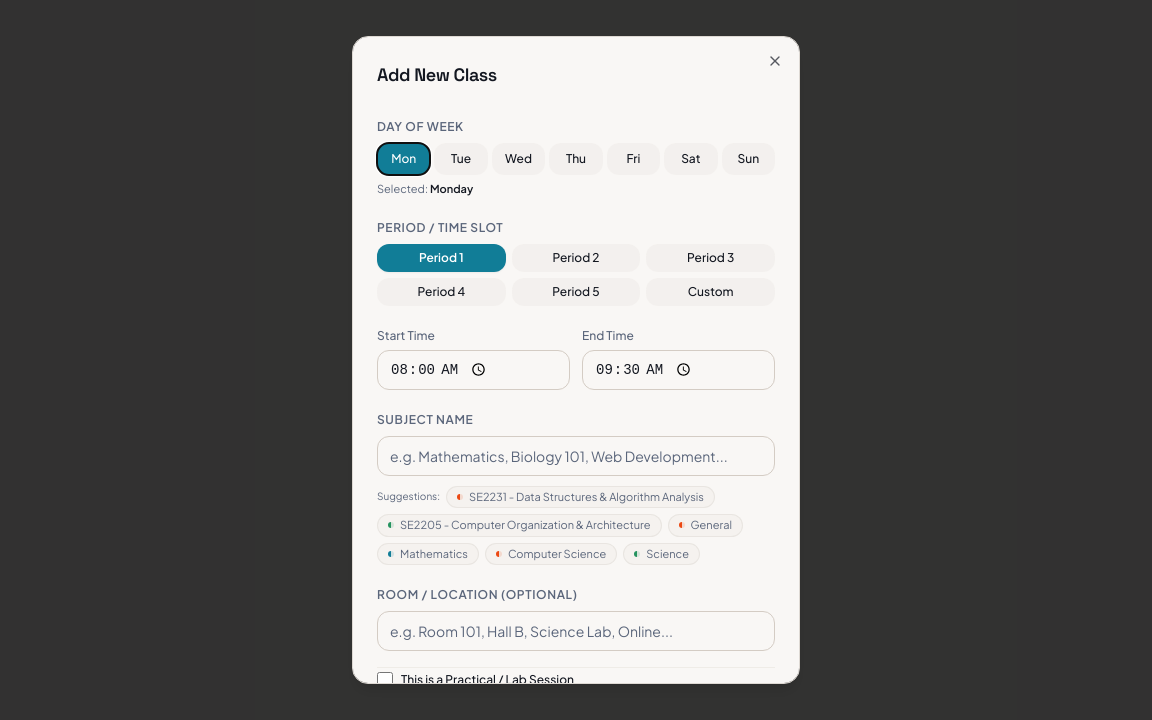
Test: ClassFormModal Subject Autofill › supports selecting autofill suggestions using keyboard navigation
# Type "comp" to search for Computer Organization
In the field labelled "Subject Name": x=576, y=456 [377,436,775,476], type "comp"
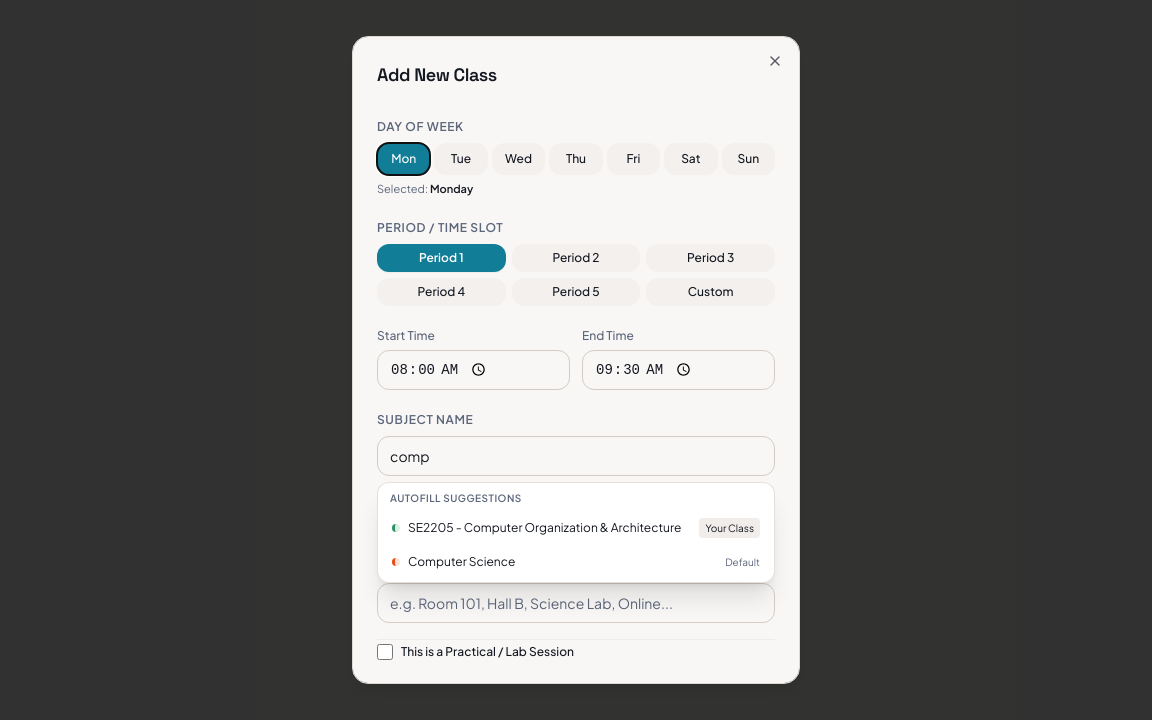
# Arrow down to highlight first suggestion, then press Enter
Press ArrowDown in the field labelled "Subject Name", box [377,436,775,476]
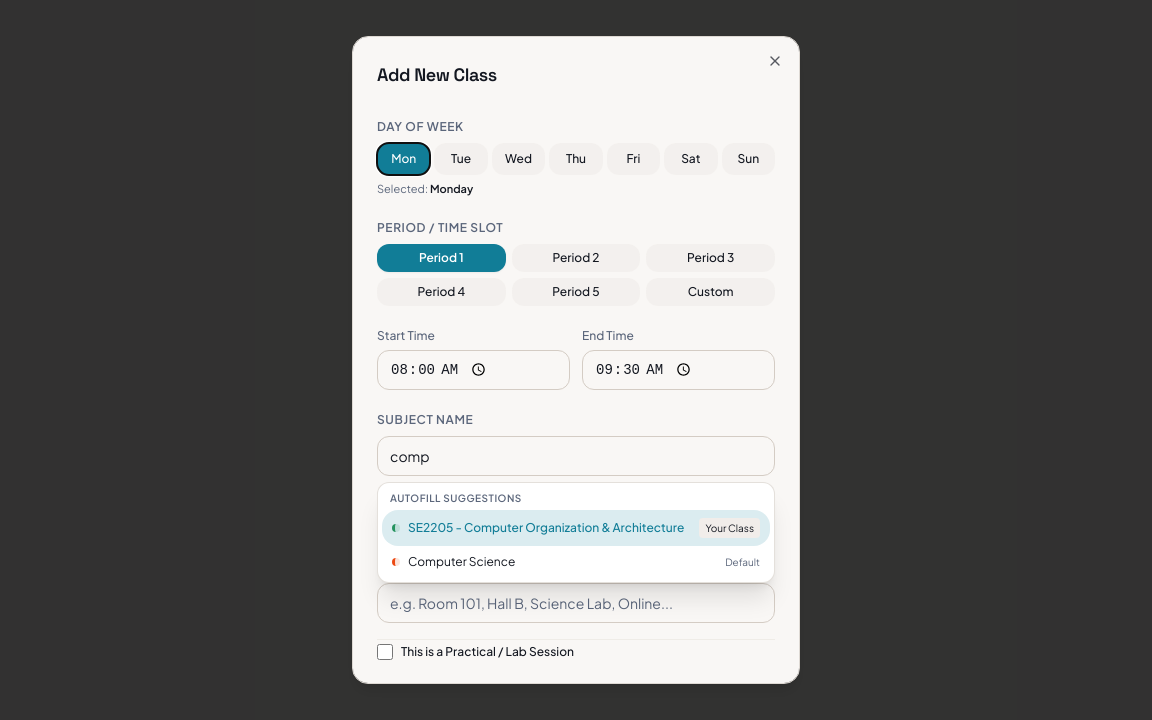
Press Enter in the field labelled "Subject Name", box [377,436,775,476]
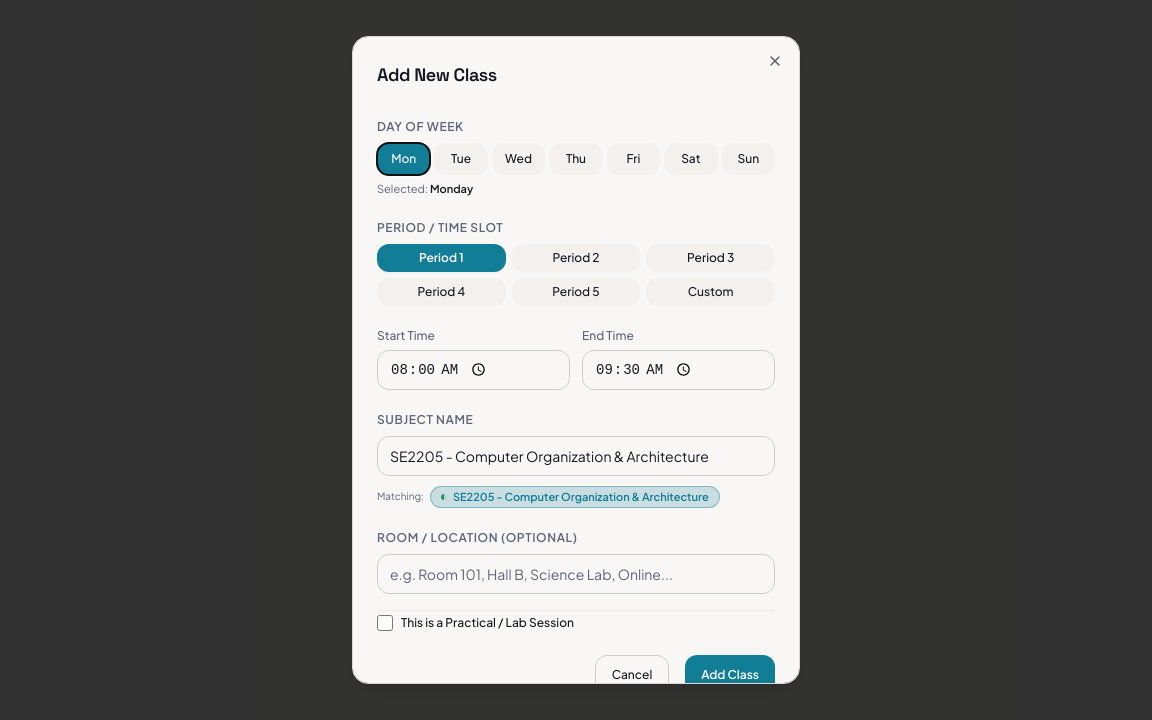
Check: the field labelled "Subject Name" holds "SE2205 - Computer Organization & Architecture", box [377,436,775,476]
